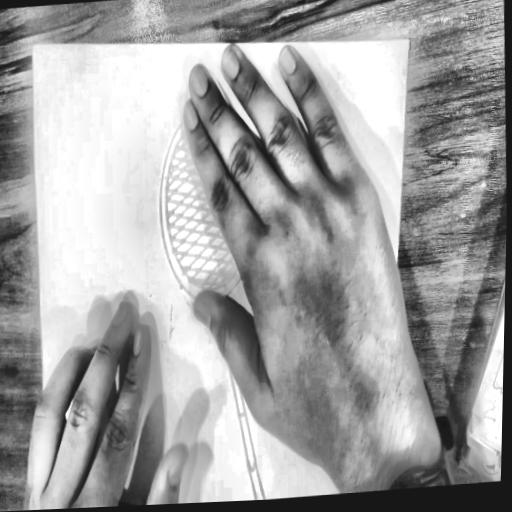badminton: (101, 89, 324, 507)
top_left: (403, 33, 412, 50)
top_right: (29, 40, 36, 53)
